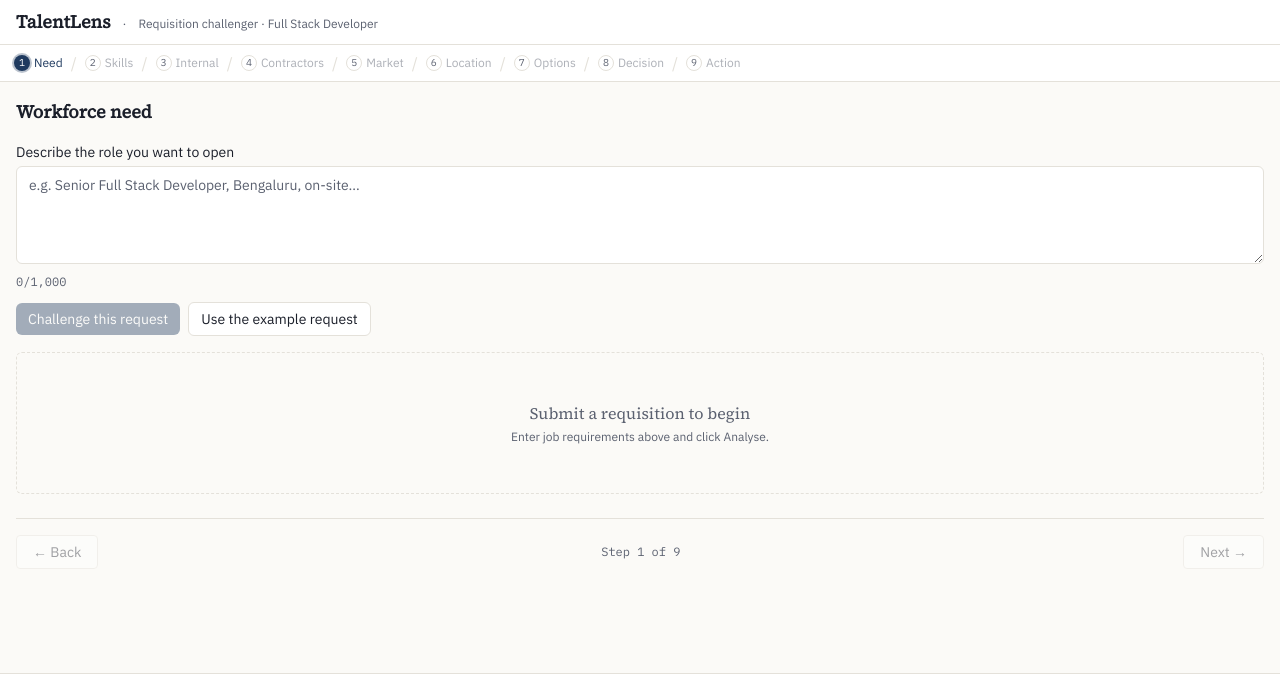
Test: Sync: LiveRecommendation panel shows no scores › renders panel_text and ready-by / cost from the default 00000 scenario
Click the button "Use the example request" at (280,319), box [188,302,371,336]
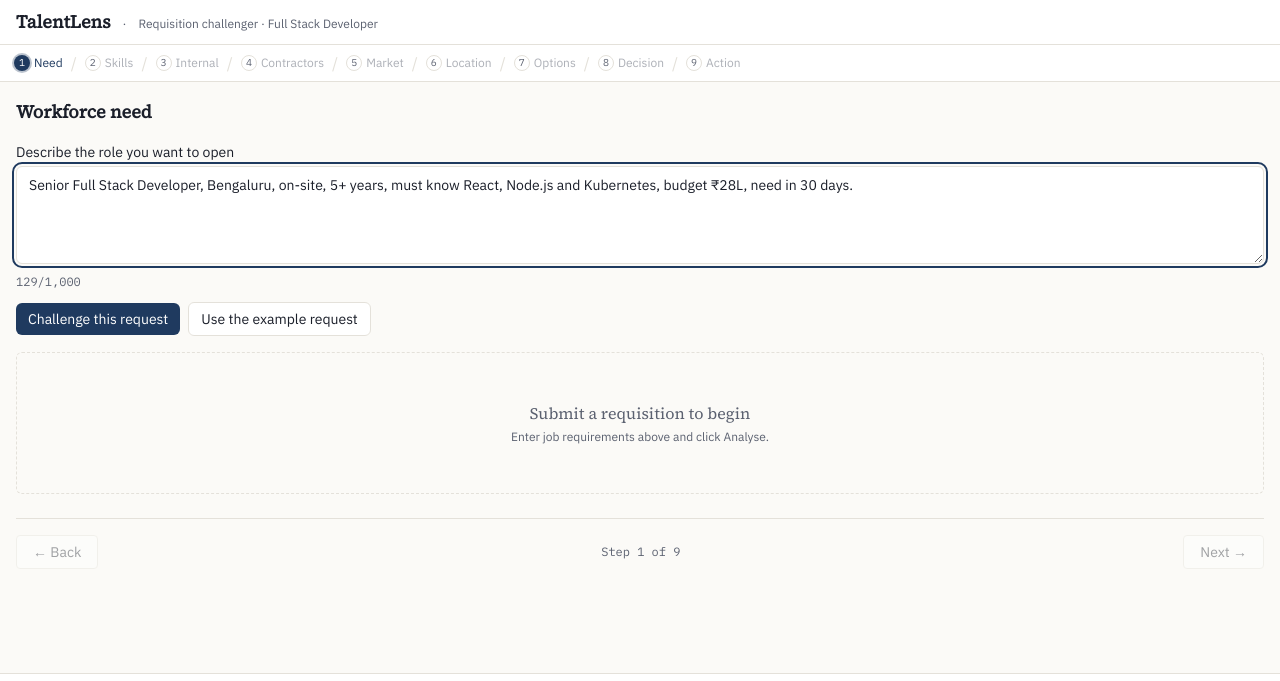
Click the button "Challenge this request" at (98,319), box [16,303,180,335]
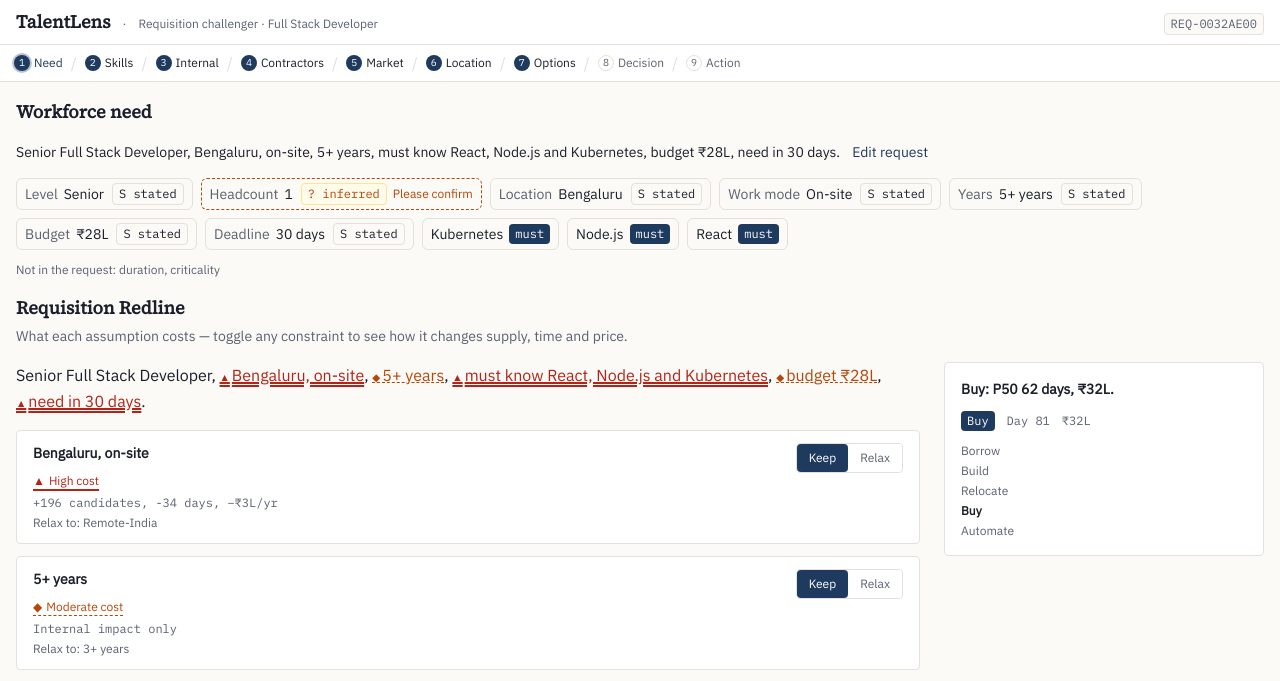
Check: the button "Edit request" is shown, box [852,142,928,162]
Check: the text "Buy: P50 62 days, ₹32L." is shown, box [961,380,1114,398]
